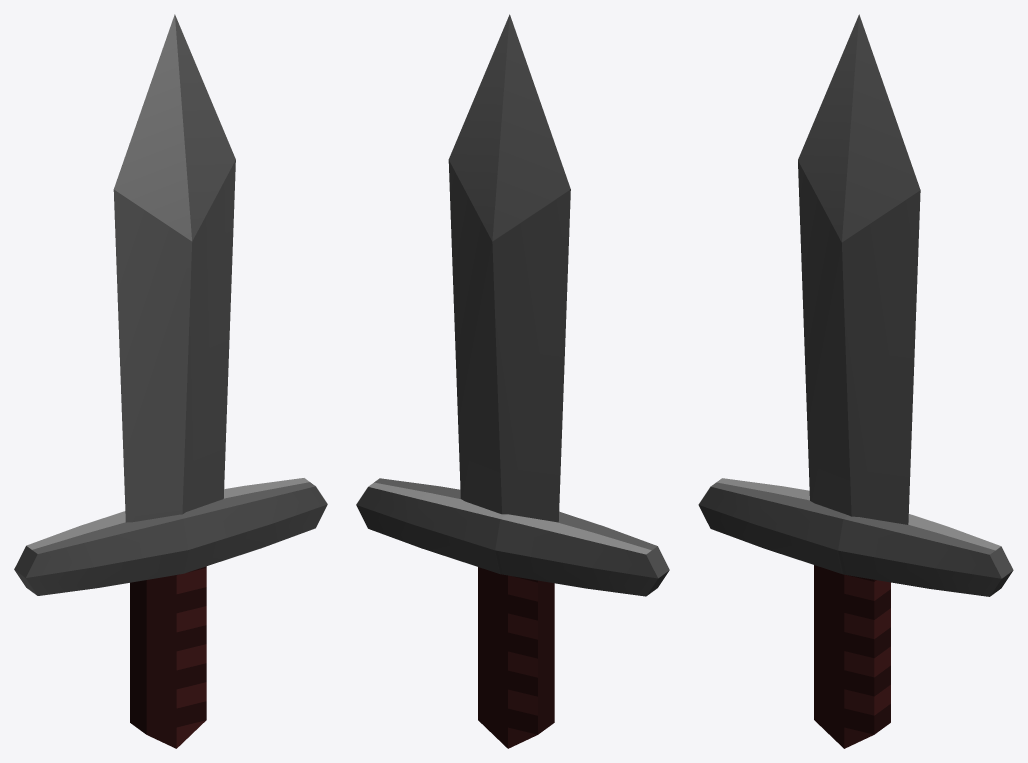
The model's file is Sword02.fbx.
3 views of the same model, side by side, from view 1: azimuth 30°, elevation 25°; view 2: azimuth 150°, elevation 25°; view 3: azimuth 330°, elevation 25° (orthographic).
Parts seen in each view (by area): view 1: SwordShort; view 2: SwordShort; view 3: SwordShort.
Boxes of the visible parts, bbox=[...] form: SwordShort: bbox=[14, 14, 327, 748]; SwordShort: bbox=[356, 14, 669, 748]; SwordShort: bbox=[698, 14, 1013, 748].
Size of the model in its own units: 0.1168 by 0.2688 by 0.0238.
